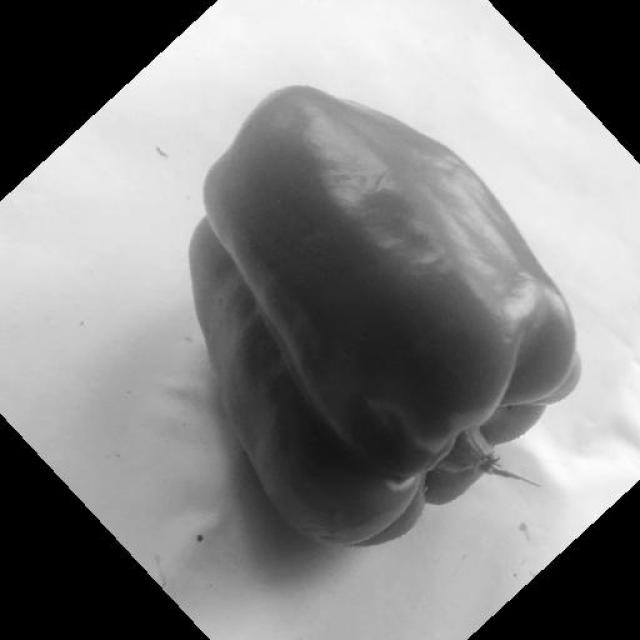Fresh_Capsicum: (192, 75, 566, 566)
